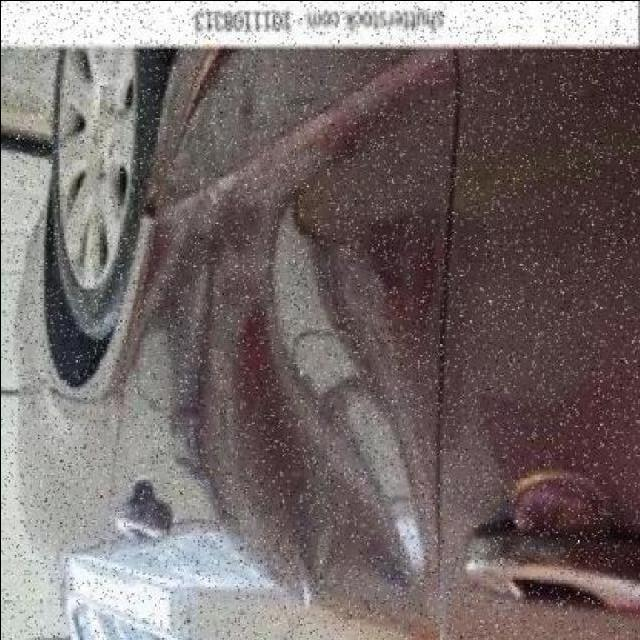doorouter-dent: (146, 26, 448, 640)
